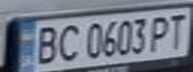0: (81, 19, 106, 60), (118, 16, 136, 56)
3: (130, 16, 151, 55)
6: (103, 17, 121, 57)
B: (27, 22, 63, 65)
C: (54, 21, 81, 63)
P: (148, 12, 175, 53)
T: (163, 10, 193, 51)
